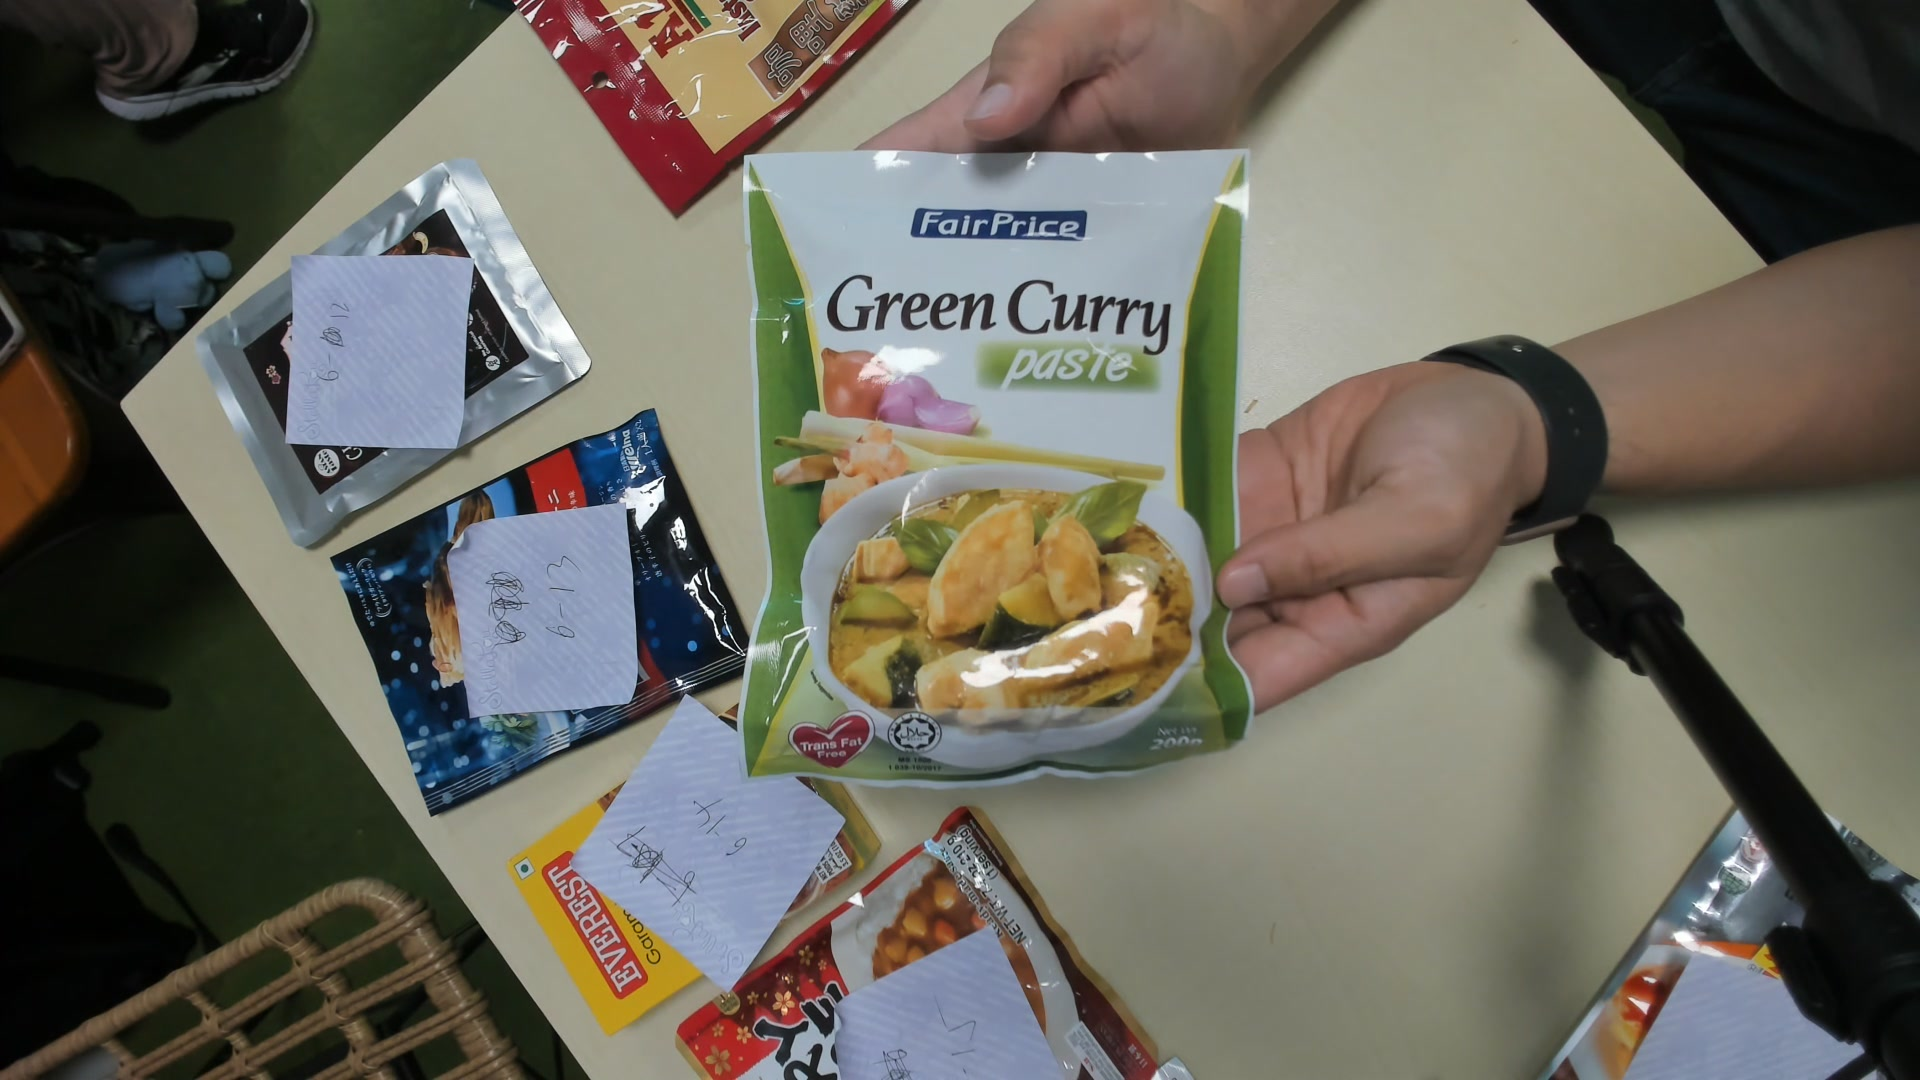CurryPastePowderSauce_200-299g_Halal_NonHealthy: (746, 138, 1253, 781)
